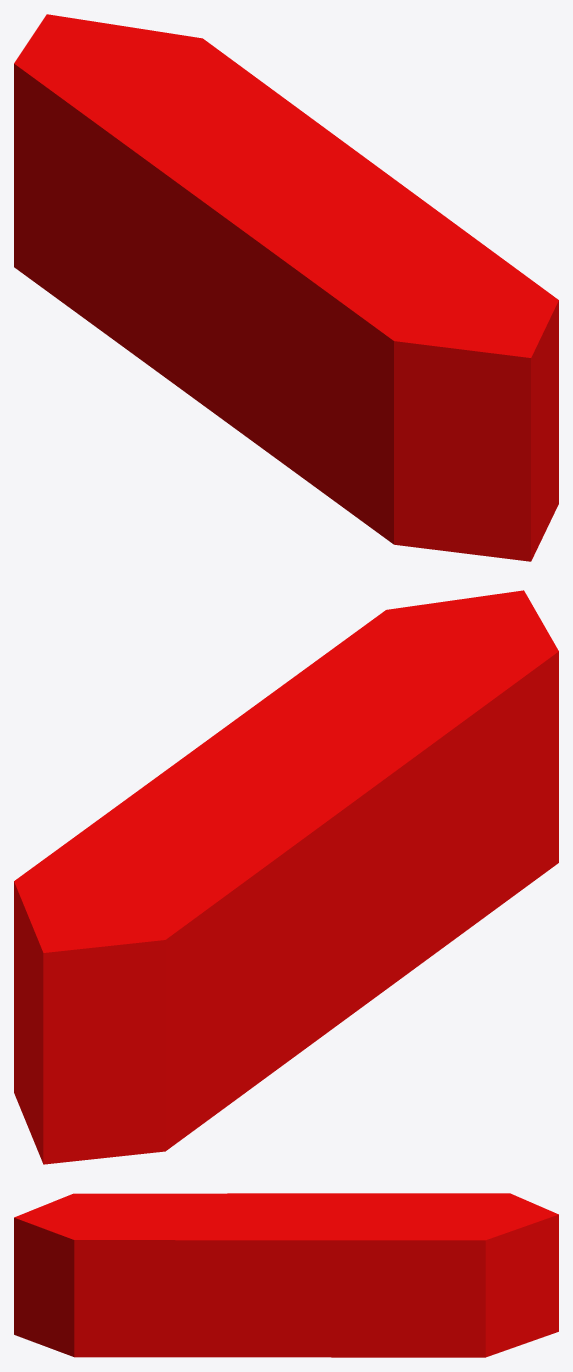
3 renders of one model, top to bottom at view 1: azimuth 30°, elevation 25°; view 2: azimuth 150°, elevation 25°; view 3: azimuth 270°, elevation 25°, orthographic. The views are drawn at different scales.
Visible parts, largest first — view 1: 8_4; view 2: 8_4; view 3: 8_4.
Boxes of the visible parts, bbox=[...] form: 8_4: bbox=[14, 14, 558, 561]; 8_4: bbox=[14, 590, 558, 1164]; 8_4: bbox=[14, 1193, 558, 1357].
Bounding box in the file's own units: 0.00932 × 0.0108 × 0.0457.
1 material, 1 textured.
